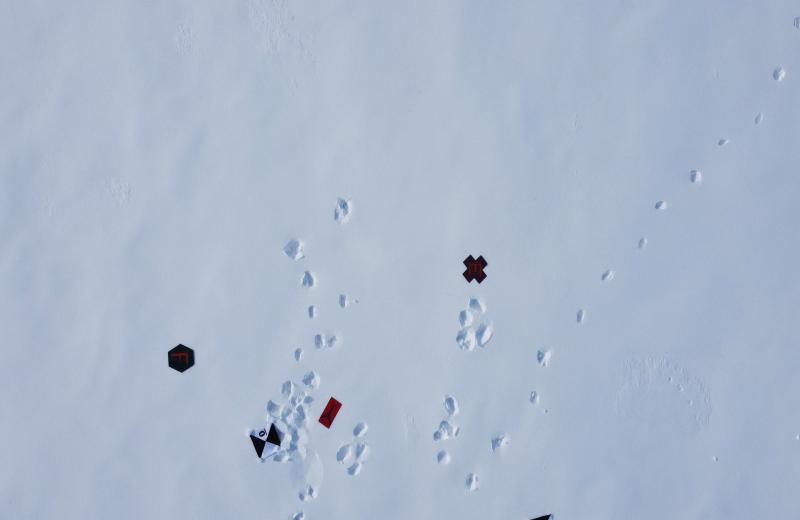Cross: (459, 252, 489, 286)
Hexagon: (167, 341, 196, 374)
Rectangle: (318, 393, 342, 430)
